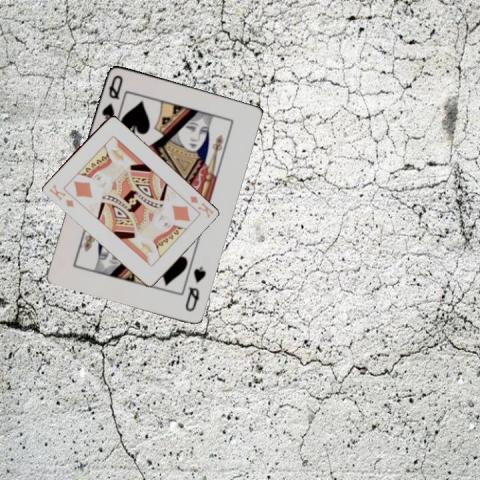Kd: (46, 181, 76, 209), (186, 193, 214, 219)
Qs: (99, 71, 124, 121), (182, 264, 207, 313)
